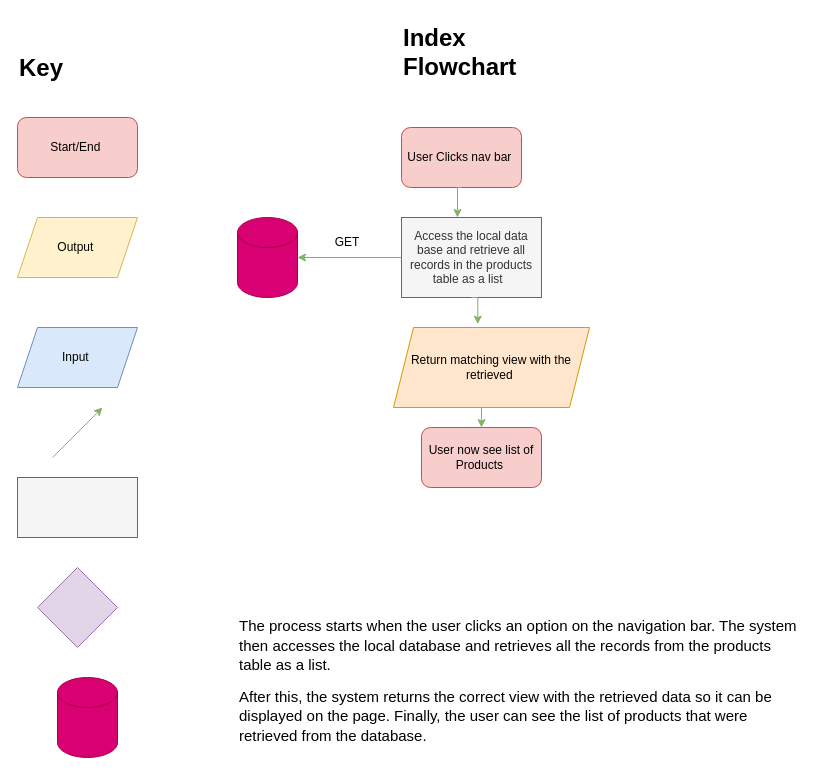
Image size: 815x775. Some labels were removed from this diagram. Here are the shapes that lost their labels. From the top down, the box of each, then its label:
(236, 216, 298, 298): Products
(16, 476, 138, 538): Process
(36, 566, 118, 648): Decision
(56, 676, 118, 758): Data Base
